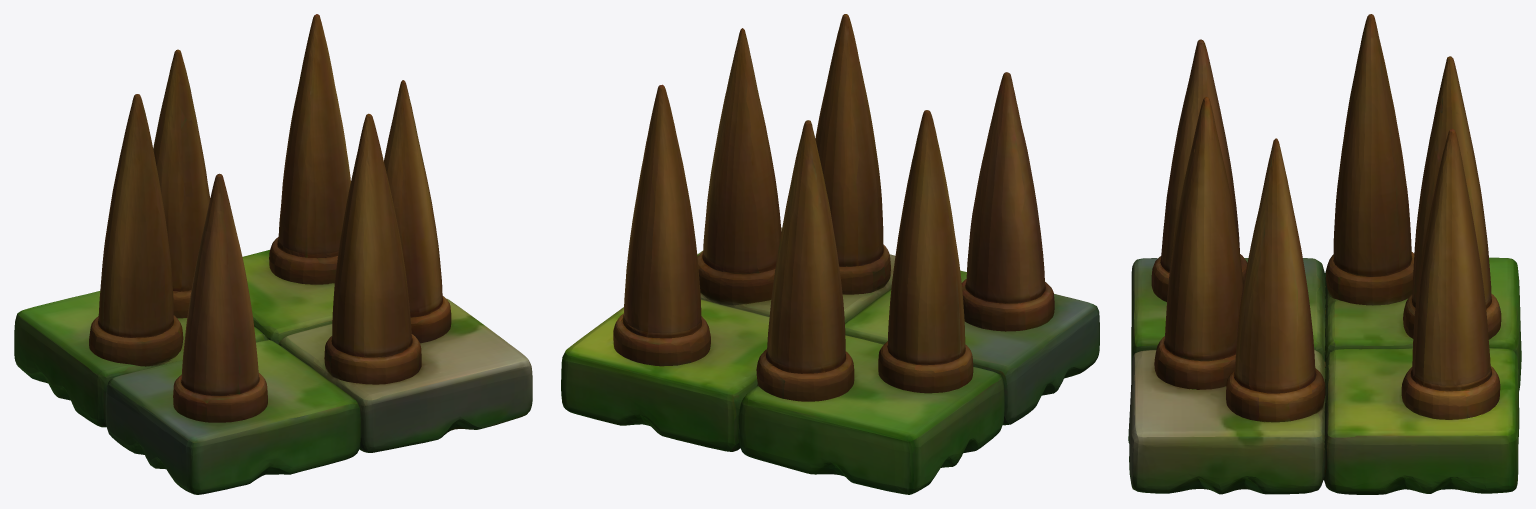
File: spikes.glb
3 renders of one model, left to right at view 1: azimuth 30°, elevation 25°; view 2: azimuth 150°, elevation 25°; view 3: azimuth 270°, elevation 25°, orthographic. The views are drawn at different scales.
Visible parts, largest first — view 1: world.001; view 2: world.001; view 3: world.001.
Part boxes in pixels (<box>): world.001: <box>14,14,532,494</box>; world.001: <box>561,14,1099,494</box>; world.001: <box>1128,14,1521,494</box>.
Size of the model in its own units: 0.9991 by 0.8594 by 0.9161.
1 material, 1 textured.
